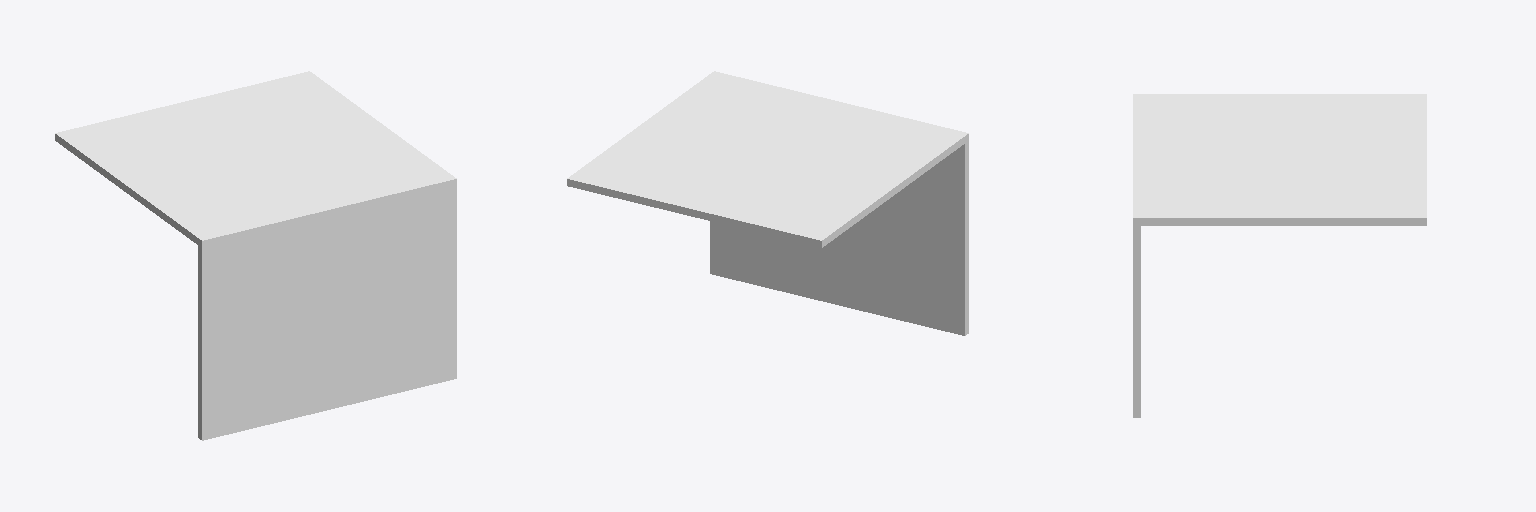
The model's file is CotéGrass.obj.
3 views of the same model, side by side, from view 1: azimuth 30°, elevation 25°; view 2: azimuth 150°, elevation 25°; view 3: azimuth 270°, elevation 25° (orthographic).
Visible parts, largest first — view 1: object 1; view 2: object 1; view 3: object 1.
Part boxes in pixels (bbox=[...]): object 1: bbox=[55, 71, 456, 440]; object 1: bbox=[567, 71, 968, 335]; object 1: bbox=[1133, 94, 1426, 417].
Bounding box in the file's own units: 3.6 × 2.7 × 3.6.